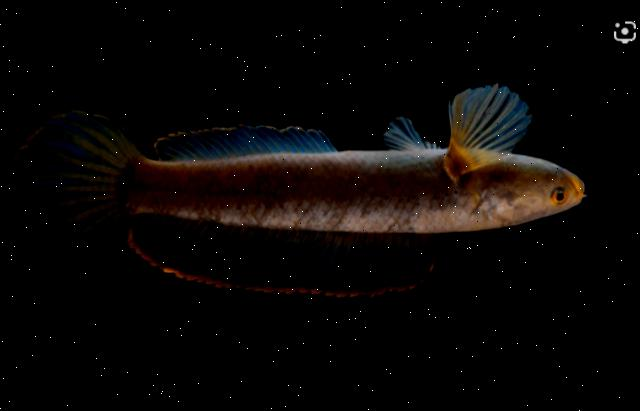Mulut: (538, 149, 596, 215)
Sirip Anal: (146, 119, 340, 167)
Sirip Dada: (440, 80, 536, 184), (372, 108, 444, 162)
Sirip Ekor: (0, 105, 140, 257)
Sirip Punggung: (124, 211, 440, 301)
